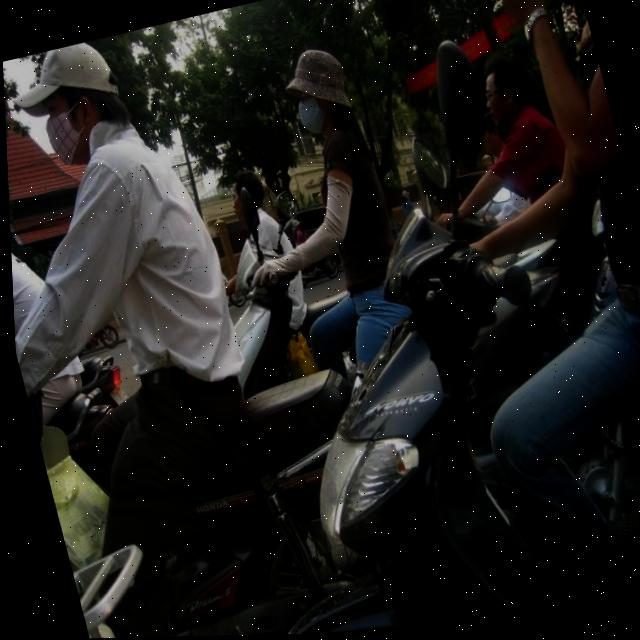motorcycle: (172, 159, 640, 636)
